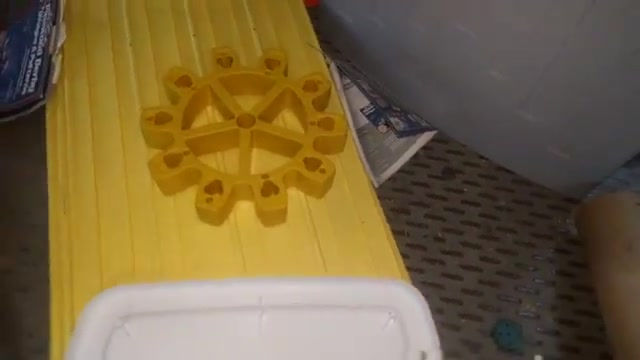gear: (131, 40, 380, 238)
